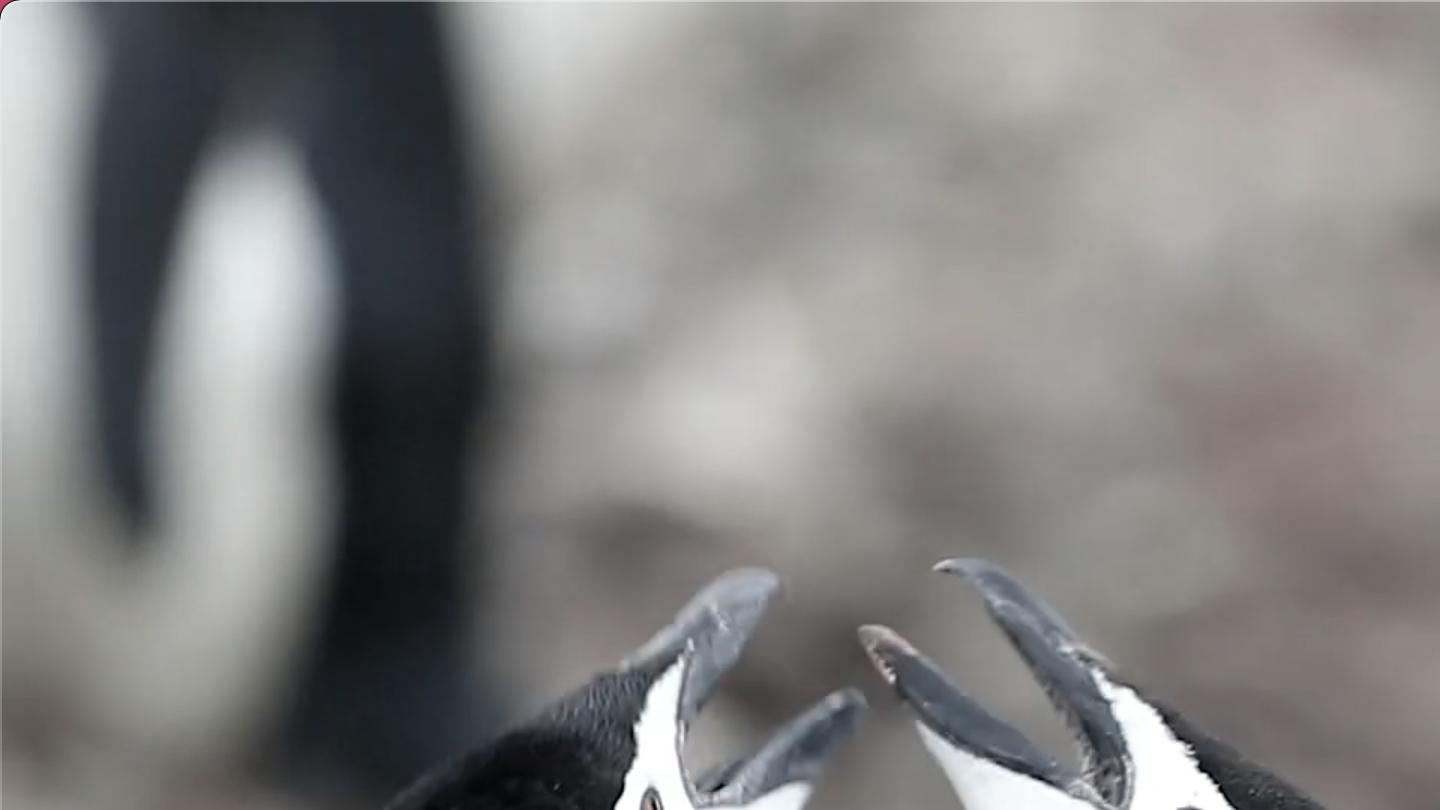Chinstrap Penguin: (26, 560, 859, 810), (866, 540, 1440, 810)
